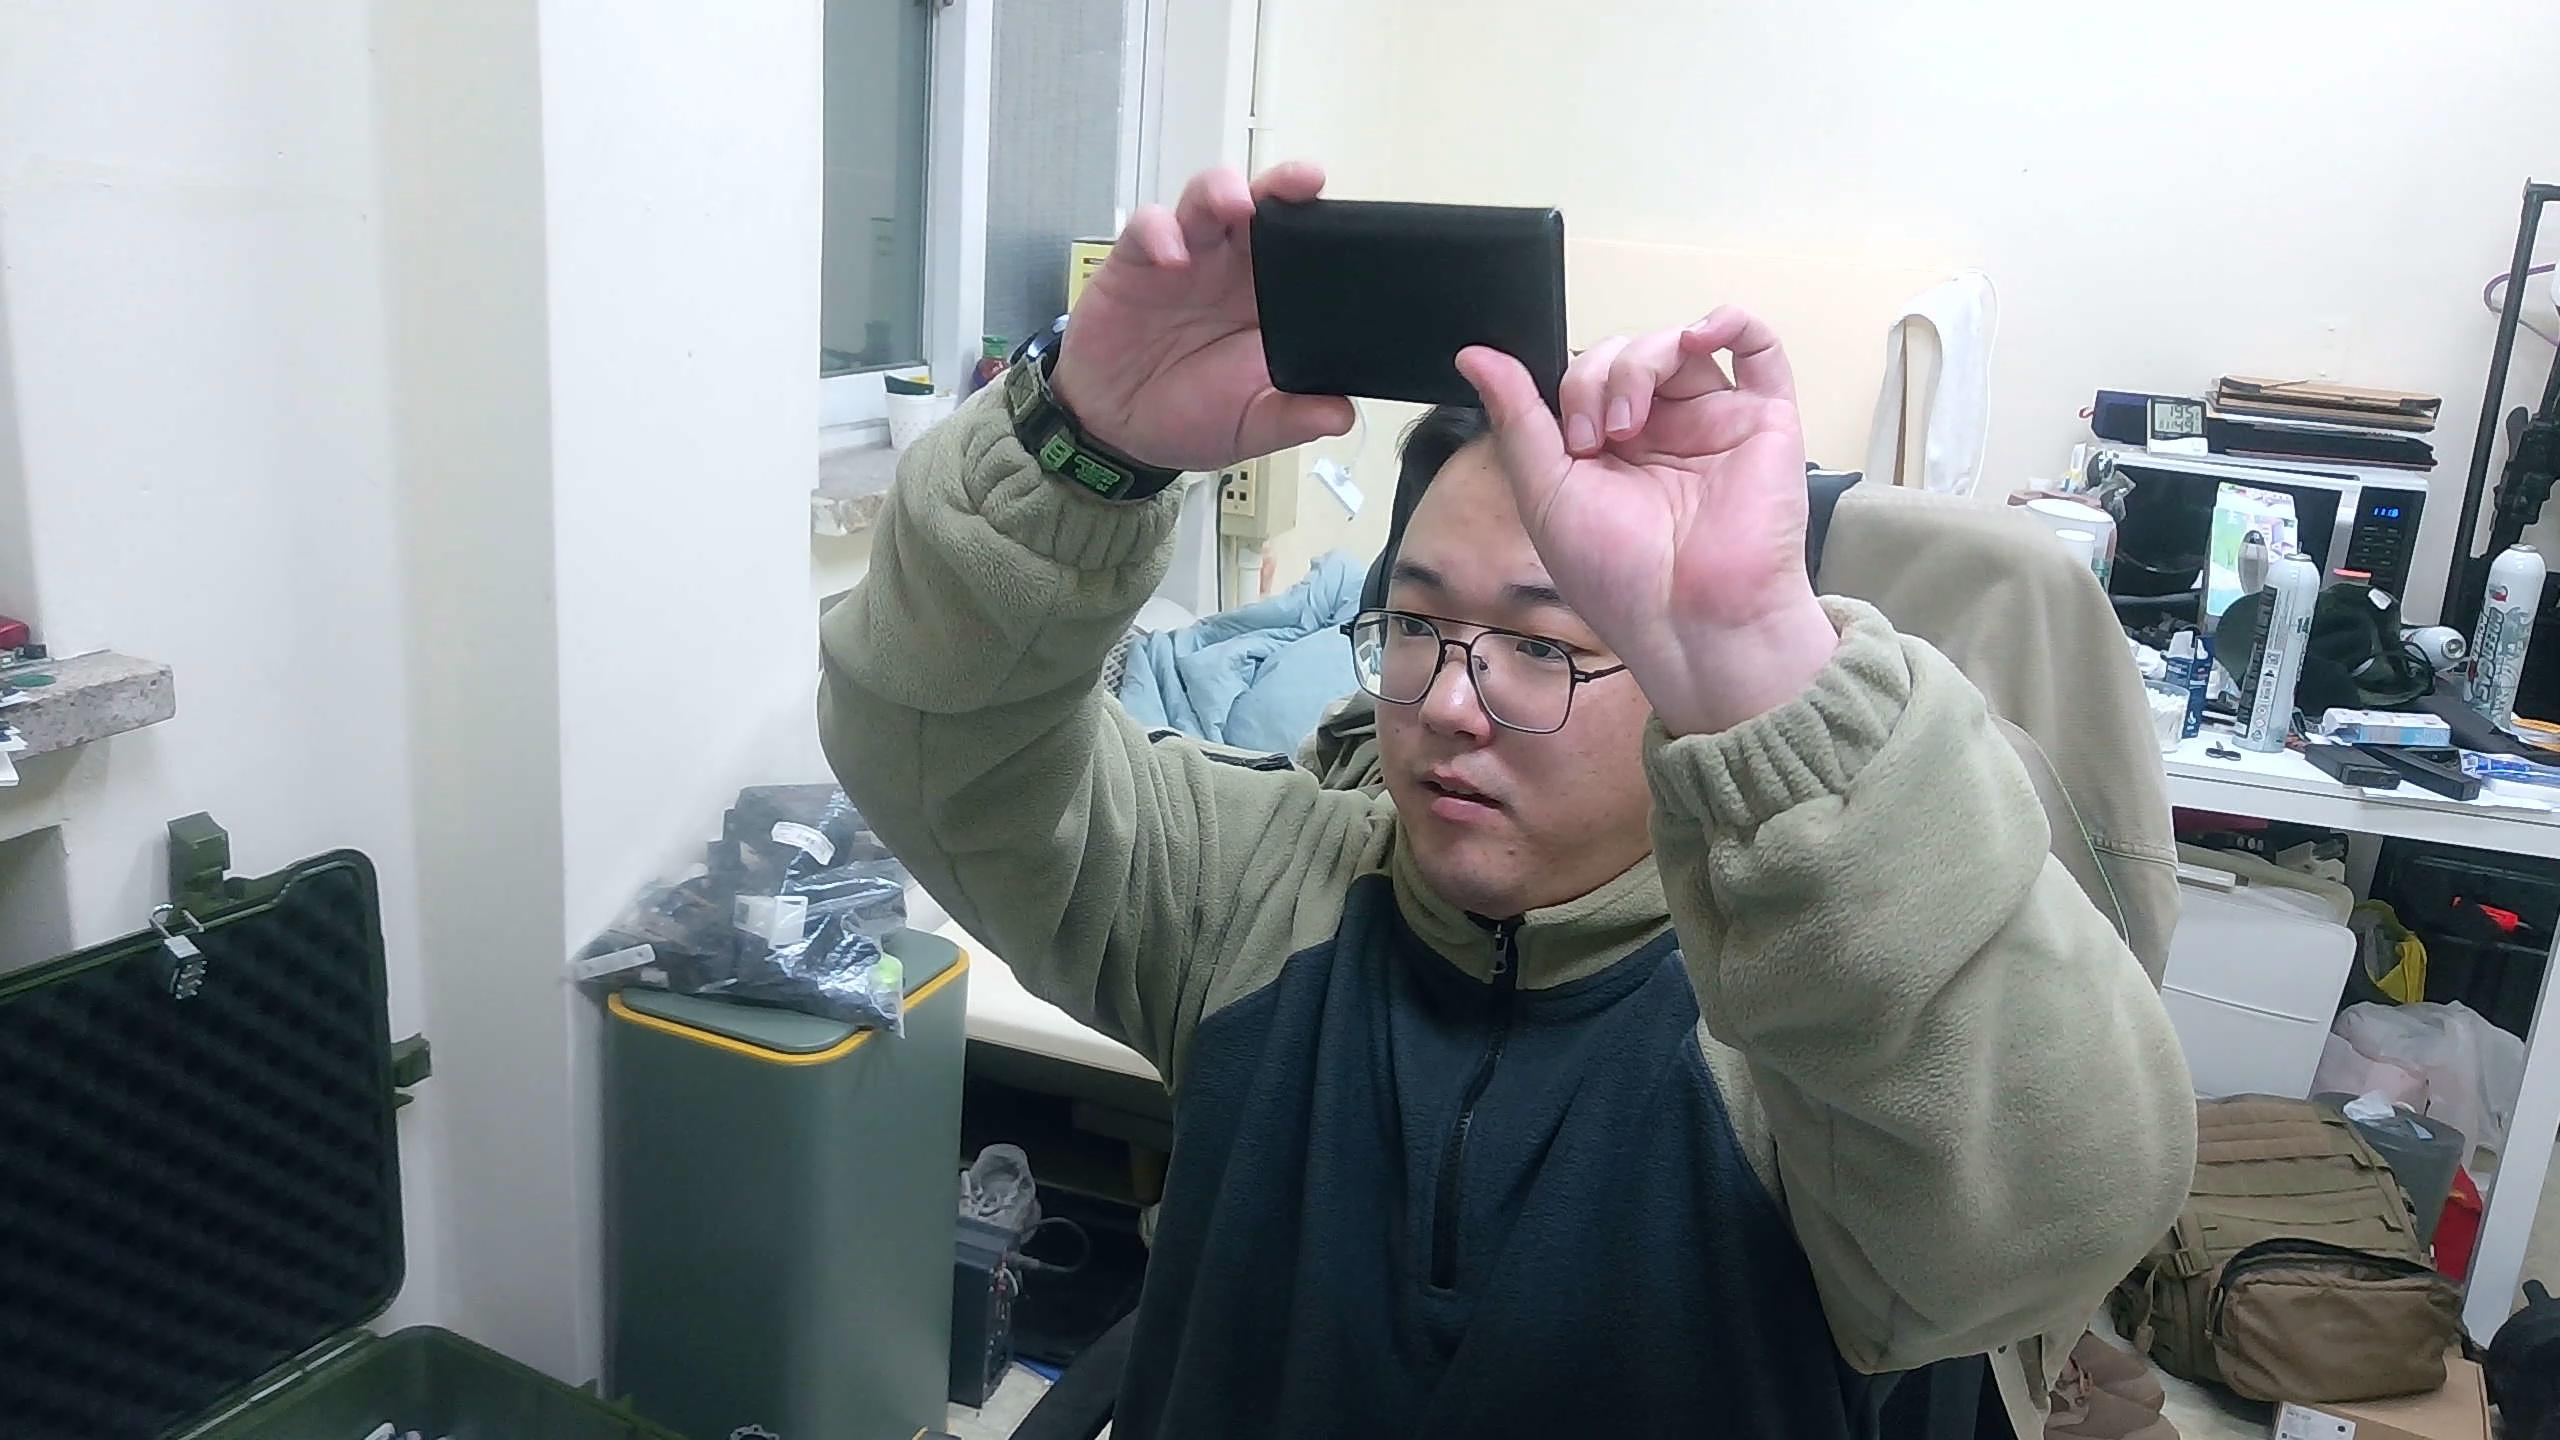earphone: (1248, 192, 1574, 413)
